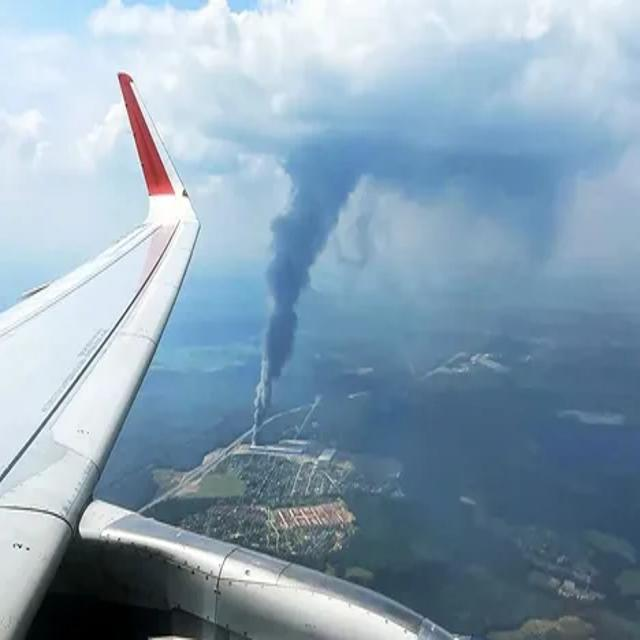Smoke: (233, 107, 359, 448)
